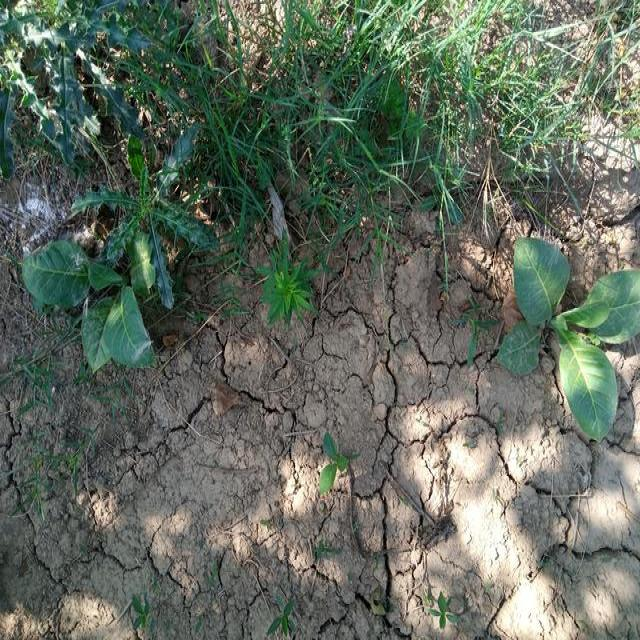crop: (490, 245, 630, 441), (23, 228, 154, 393)
